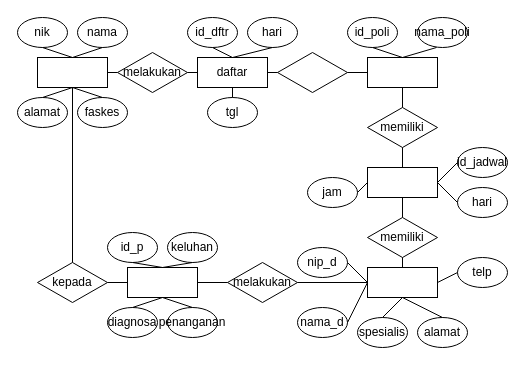
The diagram is 525 pixels wide and 365 high, and some of its shapes have lost their labels. The shapes that lost their labels are listed below. From the top down, each one's centre as x and y in pixels, then its label:
point 72,72: pasien
point 312,72: tujuan
point 402,72: poli
point 402,182: jadwal
point 162,282: pemeriksaan
point 402,282: dokter
